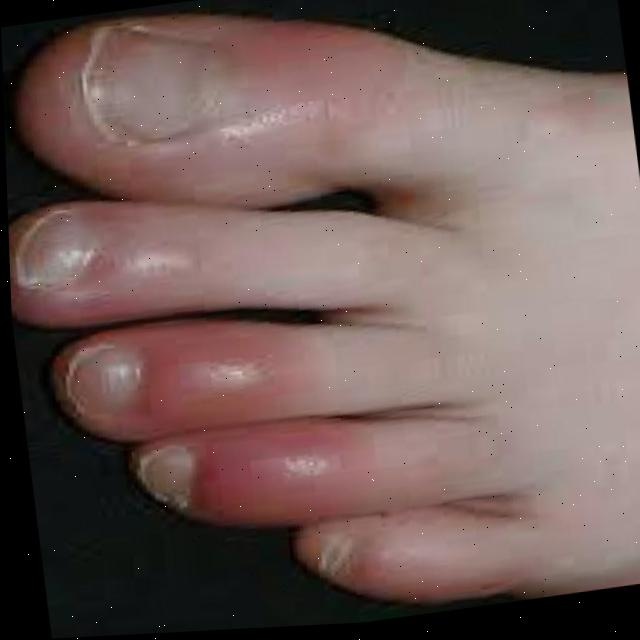Eczema: (101, 5, 445, 591)
